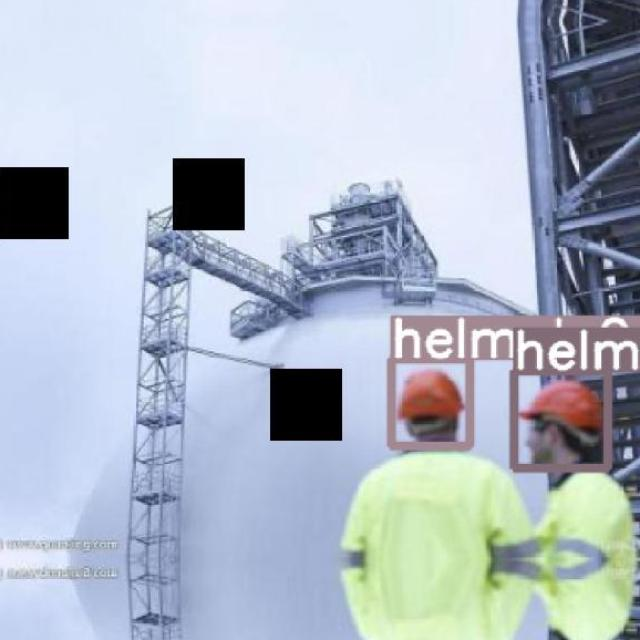helmet: (517, 380, 602, 430), (400, 370, 464, 420)
